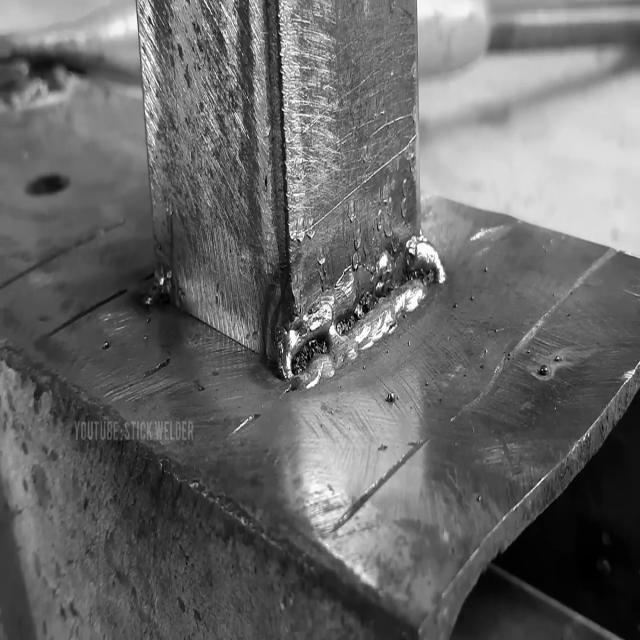Bad Welding: (274, 225, 450, 385)
Porosity: (333, 286, 383, 335), (284, 330, 330, 374)
